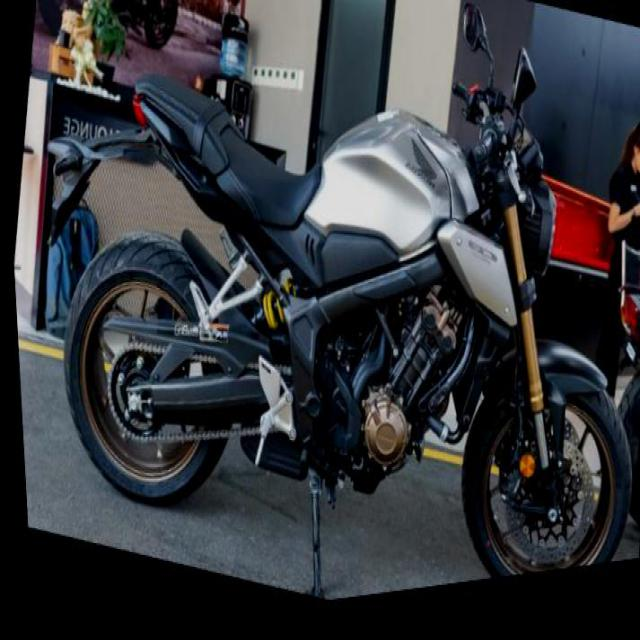CB650R: (27, 0, 639, 637)
